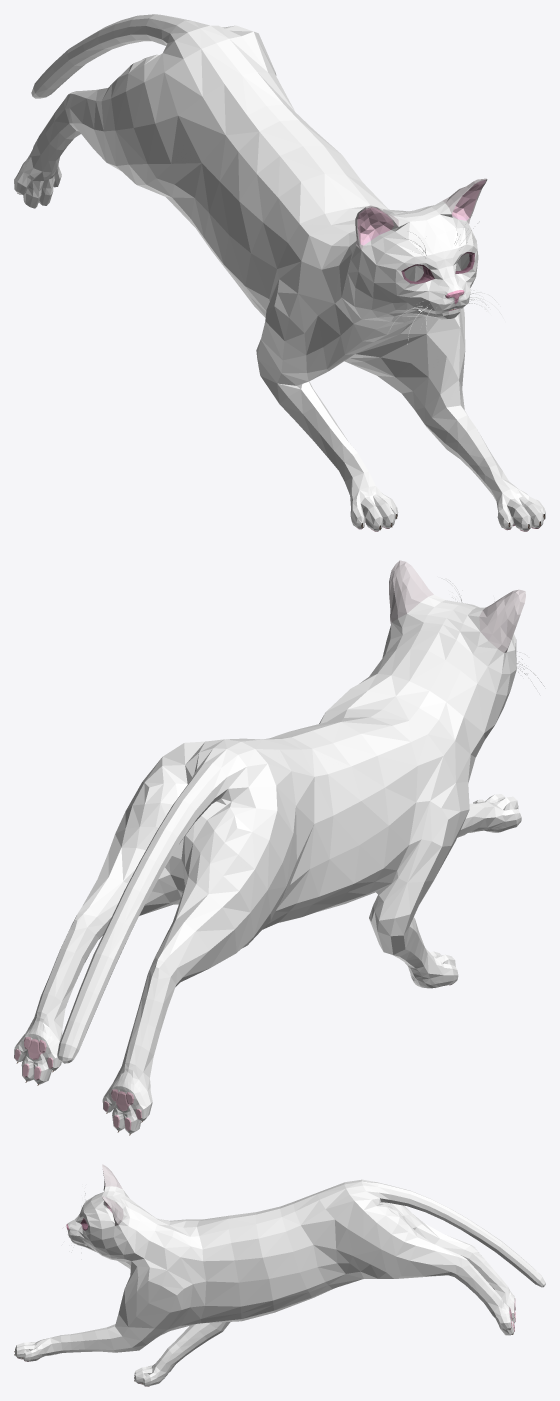
The model's file is Run_F_04.glb.
3 views of the same model, one above another, from view 1: azimuth 30°, elevation 25°; view 2: azimuth 150°, elevation 25°; view 3: azimuth 270°, elevation 25° (orthographic). The views are drawn at different scales.
Parts seen in each view (by area): view 1: Run_F_04; view 2: Run_F_04; view 3: Run_F_04.
Part boxes in pixels (x1,y1,x2,y2): Run_F_04: [14, 14, 545, 531]; Run_F_04: [14, 560, 544, 1135]; Run_F_04: [14, 1164, 545, 1386].
Size of the model in its own units: 0.1458 by 0.3346 by 0.7899.
1 material, 1 textured.
